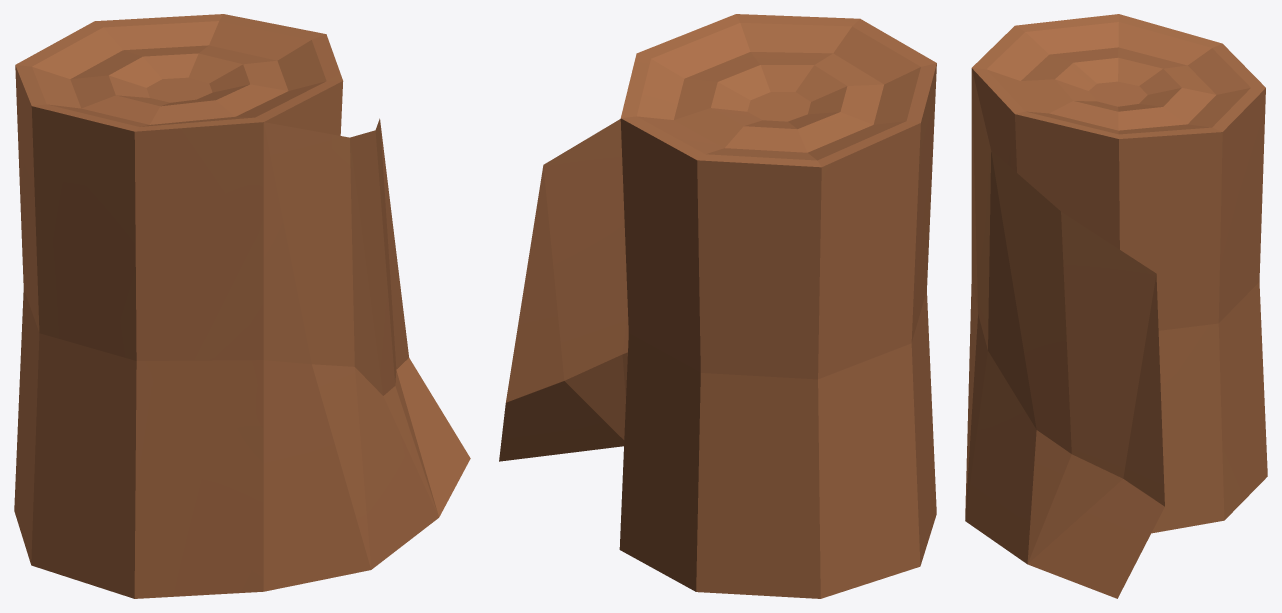
The model's file is Bandage.fbx.
The picture shows the model from 3 angles, left to right: view 1: azimuth 30°, elevation 25°; view 2: azimuth 150°, elevation 25°; view 3: azimuth 270°, elevation 25°; orthographic projection. The views are drawn at different scales.
Visible parts, largest first — view 1: Bandage; view 2: Bandage; view 3: Bandage.
Part boxes in pixels (x1,y1,x2,y2): Bandage: (14,14,470,598); Bandage: (499,14,936,598); Bandage: (965,14,1267,598).
Size of the model in its own units: 0.081 by 0.0832 by 0.0557.
